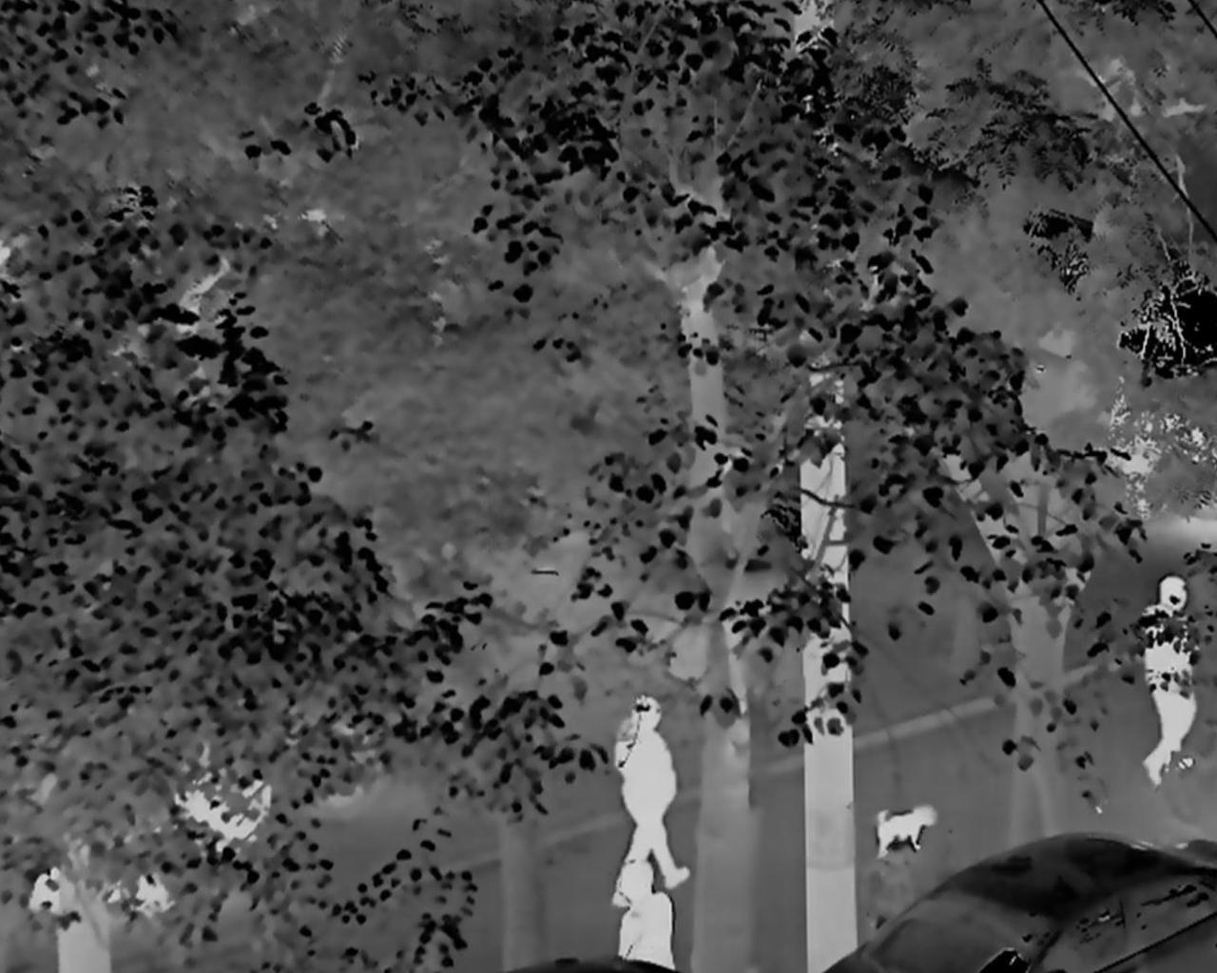person: (607, 698, 691, 908), (1140, 575, 1199, 790), (612, 861, 685, 973)
